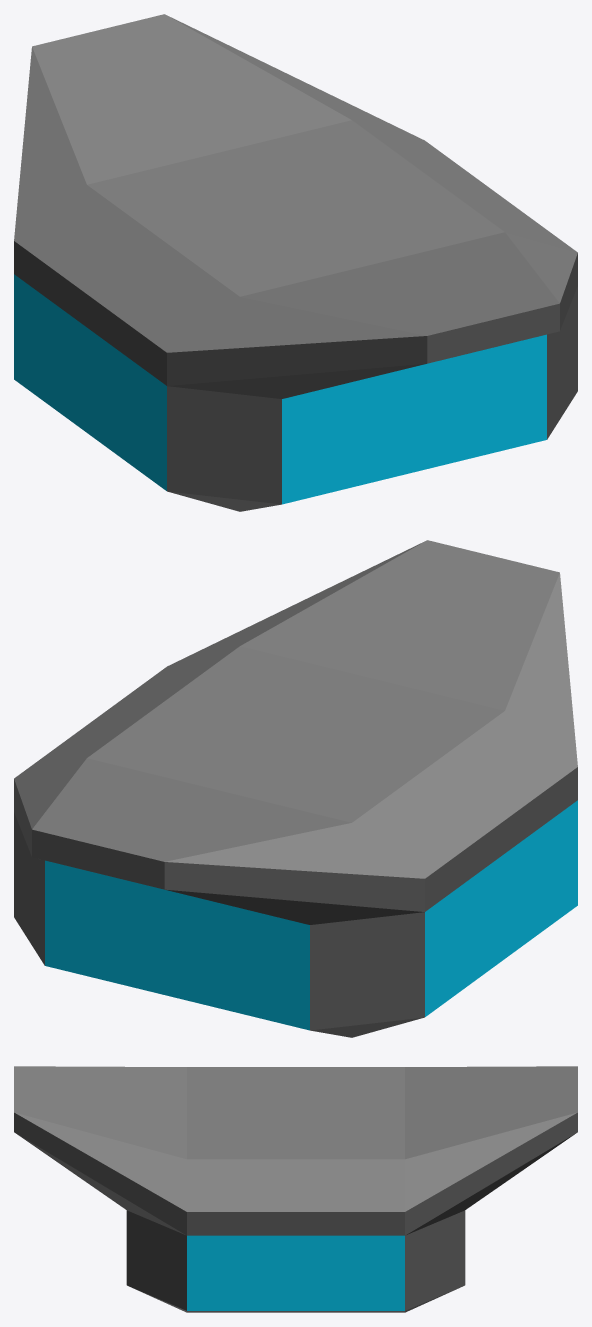
The model's file is Drone2.glb.
3 views of the same model, one above another, from view 1: azimuth 30°, elevation 25°; view 2: azimuth 150°, elevation 25°; view 3: azimuth 270°, elevation 25° (orthographic). The views are drawn at different scales.
Visible parts, largest first — view 1: Cube; view 2: Cube; view 3: Cube.
Part boxes in pixels (bbox=[...]): Cube: bbox=[14, 14, 577, 511]; Cube: bbox=[14, 540, 577, 1037]; Cube: bbox=[14, 1066, 577, 1312].
Bounding box in the file's own units: 6 × 3.47 × 10.
Materials: 1 (1 with a texture image).
